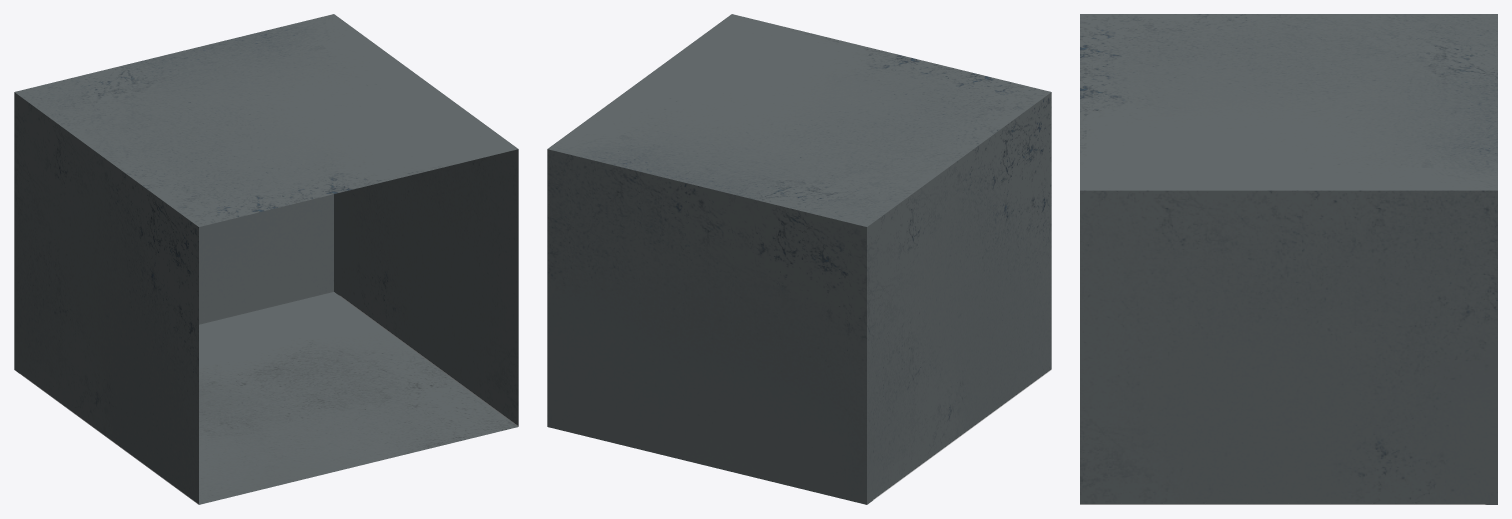
The model's file is room1.fbx.
3 renders of one model, left to right at view 1: azimuth 30°, elevation 25°; view 2: azimuth 150°, elevation 25°; view 3: azimuth 270°, elevation 25°, orthographic. The views are drawn at different scales.
Visible parts, largest first — view 1: polySurface1, polySurface2; view 2: polySurface1, polySurface2; view 3: polySurface1, polySurface2.
Part boxes in pixels (x1=…): polySurface1: x1=14, y1=92, x2=518, y2=504; polySurface2: x1=14, y1=14, x2=518, y2=226; polySurface1: x1=547, y1=92, x2=1051, y2=504; polySurface2: x1=547, y1=14, x2=1051, y2=226; polySurface1: x1=1080, y1=190, x2=1497, y2=504; polySurface2: x1=1080, y1=14, x2=1497, y2=190.
Bounding box in the file's own units: 28.24 × 23.44 × 28.24.
Materials: 1 (1 with a texture image).
